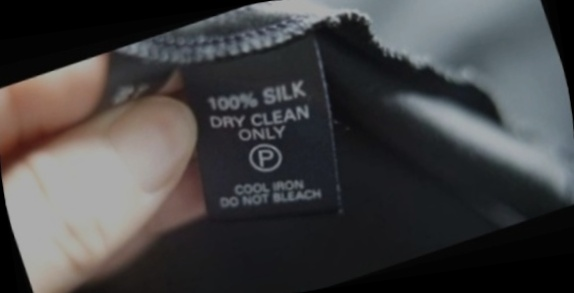dry_clean_any_solvent_except_trichloroethylene: (238, 130, 294, 184)
